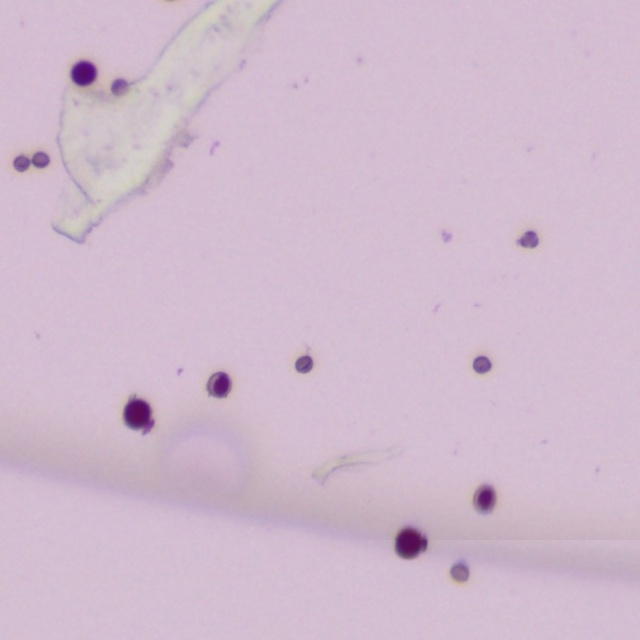intermediate: (207, 372, 231, 396), (474, 486, 495, 511), (111, 78, 128, 94)
non_viable: (450, 560, 468, 582), (517, 230, 538, 248), (473, 356, 491, 373), (31, 151, 49, 168), (295, 355, 312, 372), (13, 155, 31, 171)
viable: (123, 398, 153, 430), (395, 528, 426, 557), (71, 61, 95, 85)
